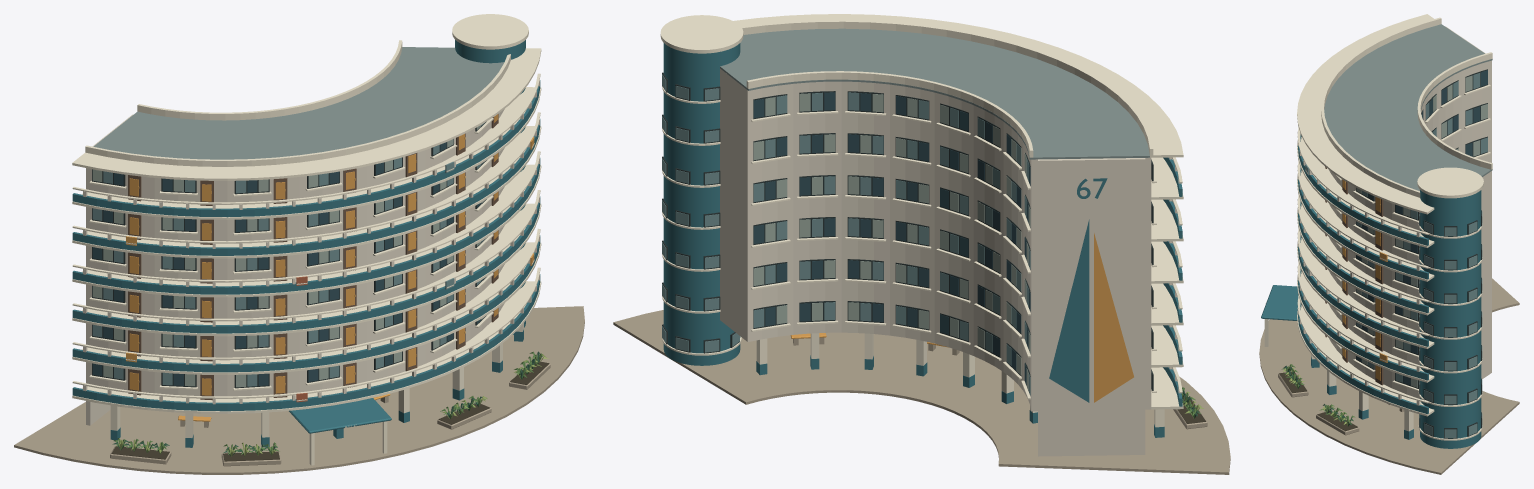
3 renders of one model, left to right at view 1: azimuth 30°, elevation 25°; view 2: azimuth 150°, elevation 25°; view 3: azimuth 270°, elevation 25°, orthographic. The views are drawn at different scales.
Parts seen in each view (by area): view 1: Crescent dwelling slab, Curved gallery balustrades, Open void deck, Aluminium ribbon casements, Gallery doors, Lift and service spine, Garden beds, Pandan planting, Drying towels; view 2: Crescent dwelling slab, Lift and service spine, Aluminium ribbon casements, Open void deck, Curved gallery balustrades; view 3: Crescent dwelling slab, Lift and service spine, Open void deck, Curved gallery balustrades, Aluminium ribbon casements, Gallery doors, Garden beds, Pandan planting.
Part boxes in pixels (left/top/right/bottom): Crescent dwelling slab: left=72, top=40, right=541, bottom=413; Curved gallery balustrades: left=72, top=73, right=540, bottom=411; Open void deck: left=14, top=306, right=584, bottom=474; Aluminium ribbon casements: left=89, top=118, right=493, bottom=390; Gallery doors: left=128, top=114, right=498, bottom=400; Lift and service spine: left=86, top=14, right=528, bottom=425; Garden beds: left=110, top=361, right=550, bottom=466; Pandan planting: left=112, top=351, right=548, bottom=456; Drying towels: left=125, top=137, right=534, bottom=402; Crescent dwelling slab: left=720, top=14, right=1183, bottom=411; Lift and service spine: left=660, top=15, right=1145, bottom=456; Aluminium ribbon casements: left=751, top=91, right=1156, bottom=399; Open void deck: left=613, top=310, right=1230, bottom=474; Curved gallery balustrades: left=1163, top=157, right=1182, bottom=406; Crescent dwelling slab: left=1297, top=14, right=1492, bottom=416; Lift and service spine: left=1417, top=26, right=1485, bottom=448; Open void deck: left=1259, top=278, right=1519, bottom=474; Curved gallery balustrades: left=1297, top=127, right=1428, bottom=414; Aluminium ribbon casements: left=1333, top=69, right=1490, bottom=391; Gallery doors: left=1325, top=166, right=1383, bottom=385; Garden beds: left=1278, top=372, right=1359, bottom=435; Pandan planting: left=1281, top=364, right=1355, bottom=426.
Bounding box in the file's own units: 44.23 × 21.93 × 20.17.
